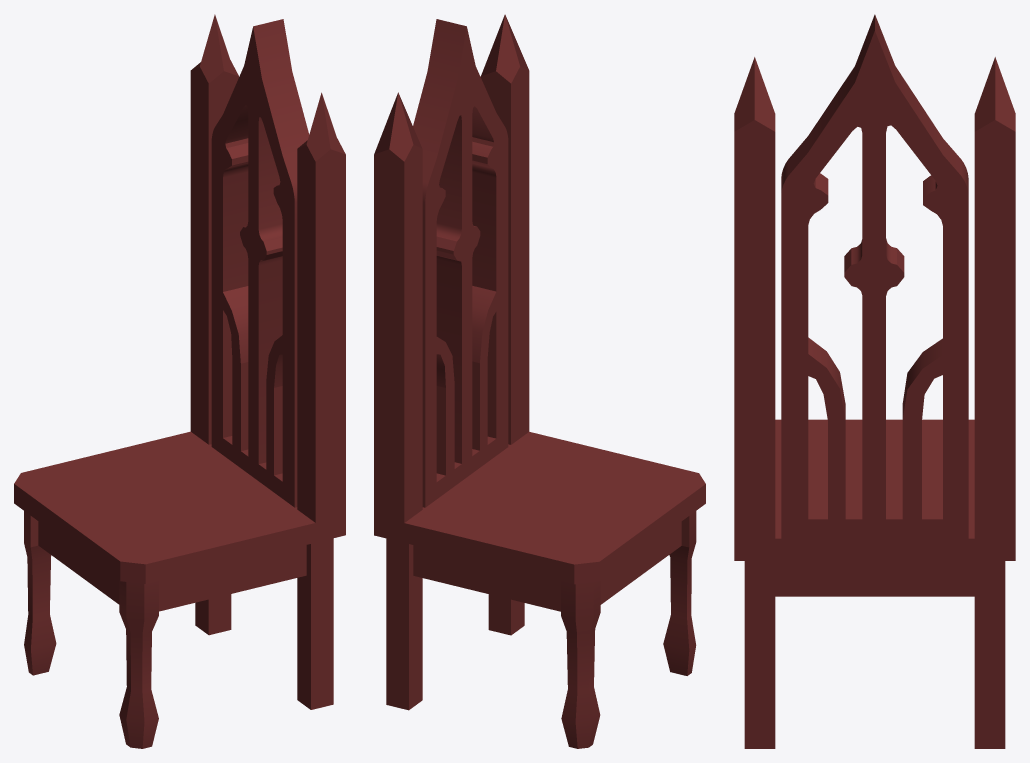
File: RoyalChair.fbx
The picture shows the model from 3 angles, left to right: view 1: azimuth 30°, elevation 25°; view 2: azimuth 150°, elevation 25°; view 3: azimuth 270°, elevation 25°; orthographic projection. The views are drawn at different scales.
Parts seen in each view (by area): view 1: royalchair; view 2: royalchair; view 3: royalchair.
Boxes of the visible parts, bbox=[...] form: royalchair: bbox=[14, 14, 345, 748]; royalchair: bbox=[374, 14, 705, 748]; royalchair: bbox=[734, 14, 1015, 748].
Bounding box in the file's own units: 50.08 × 142 × 50.08.
